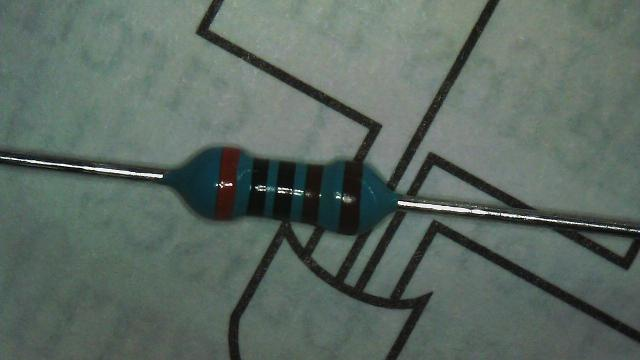black: (272, 162, 296, 220), (248, 159, 269, 216)
brown: (338, 161, 362, 234), (302, 164, 322, 224)
orange: (215, 148, 238, 219)
resistor: (161, 127, 410, 248)
